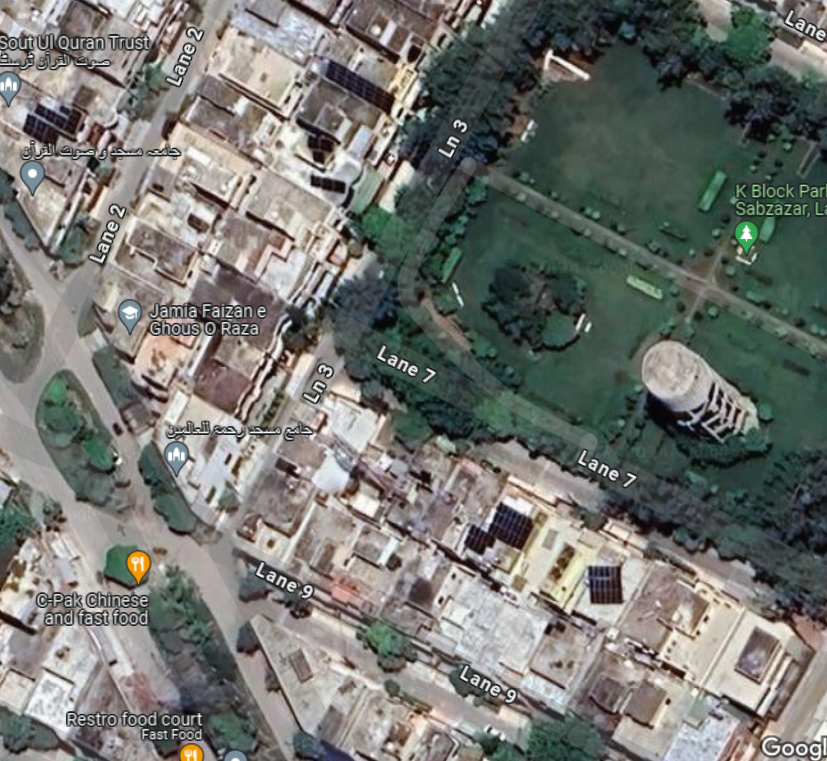solar-panel: (325, 53, 407, 110), (467, 500, 531, 563), (22, 97, 88, 143), (300, 132, 348, 195), (587, 557, 626, 607)
